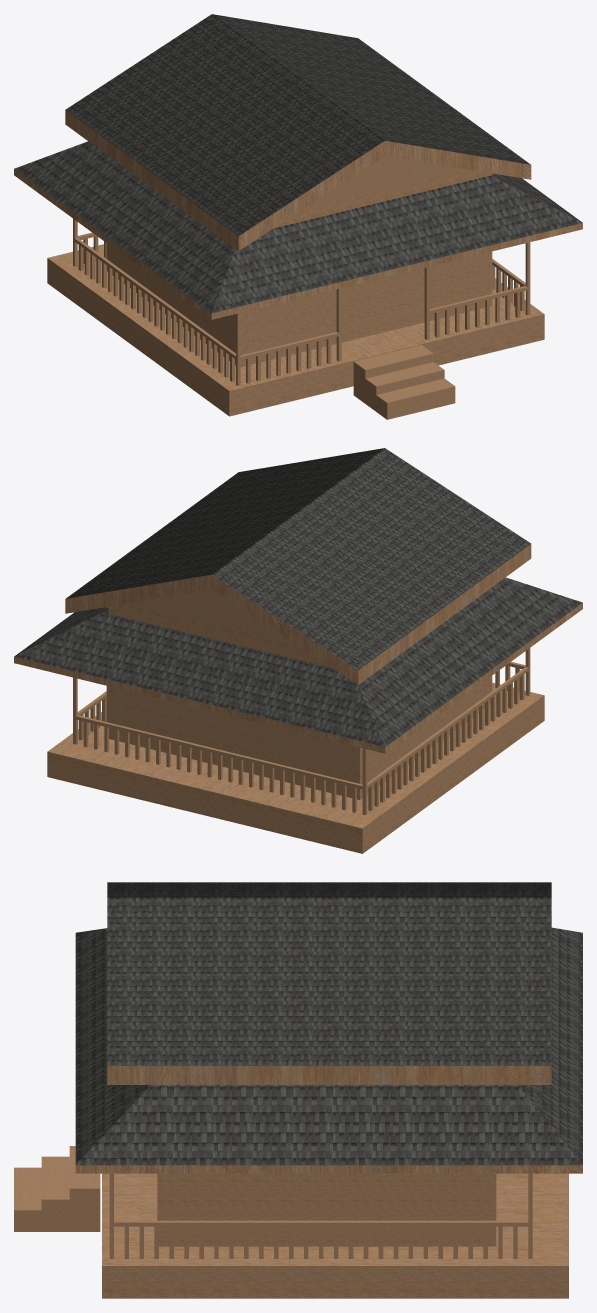
File: HouseExterior_Angled.fbx
3 renders of one model, top to bottom at view 1: azimuth 30°, elevation 25°; view 2: azimuth 150°, elevation 25°; view 3: azimuth 270°, elevation 25°, orthographic. The views are drawn at different scales.
Visible parts, largest first — view 1: polySurface6750, polySurface6732, polySurface6734, polySurface6748, polySurface6823, polySurface6793, polySurface6749, polySurface6747, polySurface6814; view 2: polySurface6750, polySurface6732, polySurface6734, polySurface6844, polySurface6749, polySurface6793, polySurface6746, polySurface6814; view 3: polySurface6750, polySurface6732, polySurface6734, polySurface6814, polySurface6823.
Boxes of the visible parts, box(x1,y1,x2,y2) form: polySurface6750: box(65, 14, 531, 250); polySurface6732: box(14, 141, 582, 319); polySurface6734: box(47, 244, 544, 416); polySurface6748: box(251, 254, 479, 364); polySurface6823: box(353, 345, 455, 419); polySurface6793: box(106, 243, 250, 366); polySurface6749: box(274, 168, 492, 228); polySurface6747: box(307, 155, 462, 206); polySurface6814: box(480, 251, 492, 308); polySurface6750: box(65, 448, 531, 684); polySurface6732: box(14, 577, 582, 753); polySurface6734: box(47, 682, 544, 853); polySurface6844: box(119, 689, 347, 796); polySurface6749: box(106, 602, 330, 667); polySurface6793: box(347, 676, 492, 799); polySurface6746: box(139, 589, 284, 637); polySurface6814: box(106, 686, 118, 740); polySurface6750: box(107, 882, 551, 1084); polySurface6732: box(75, 927, 582, 1173); polySurface6734: box(102, 1173, 568, 1298); polySurface6814: box(157, 1173, 496, 1246); polySurface6823: box(14, 1146, 100, 1231).
Bounding box in the file's own units: 8.16 × 5.13 × 8.43.
